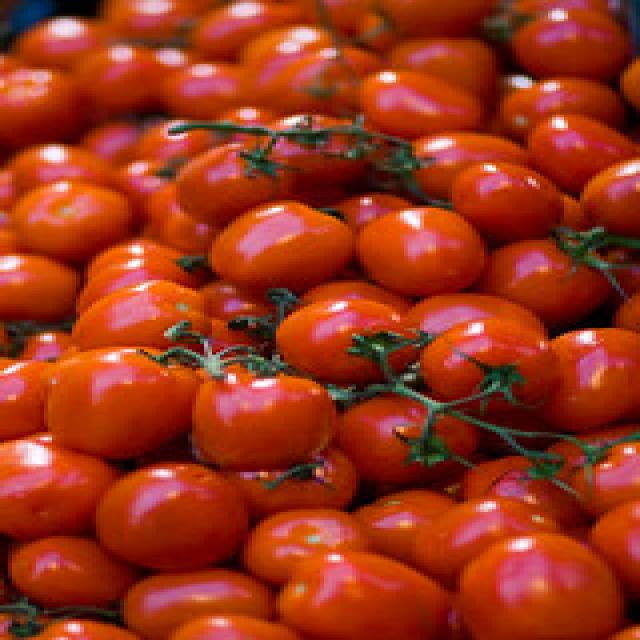Tomato: (39, 346, 198, 464), (184, 365, 348, 471), (332, 392, 486, 488), (411, 320, 560, 414), (206, 204, 356, 293), (64, 277, 214, 364), (274, 297, 414, 385), (154, 137, 298, 220), (362, 208, 488, 294)
